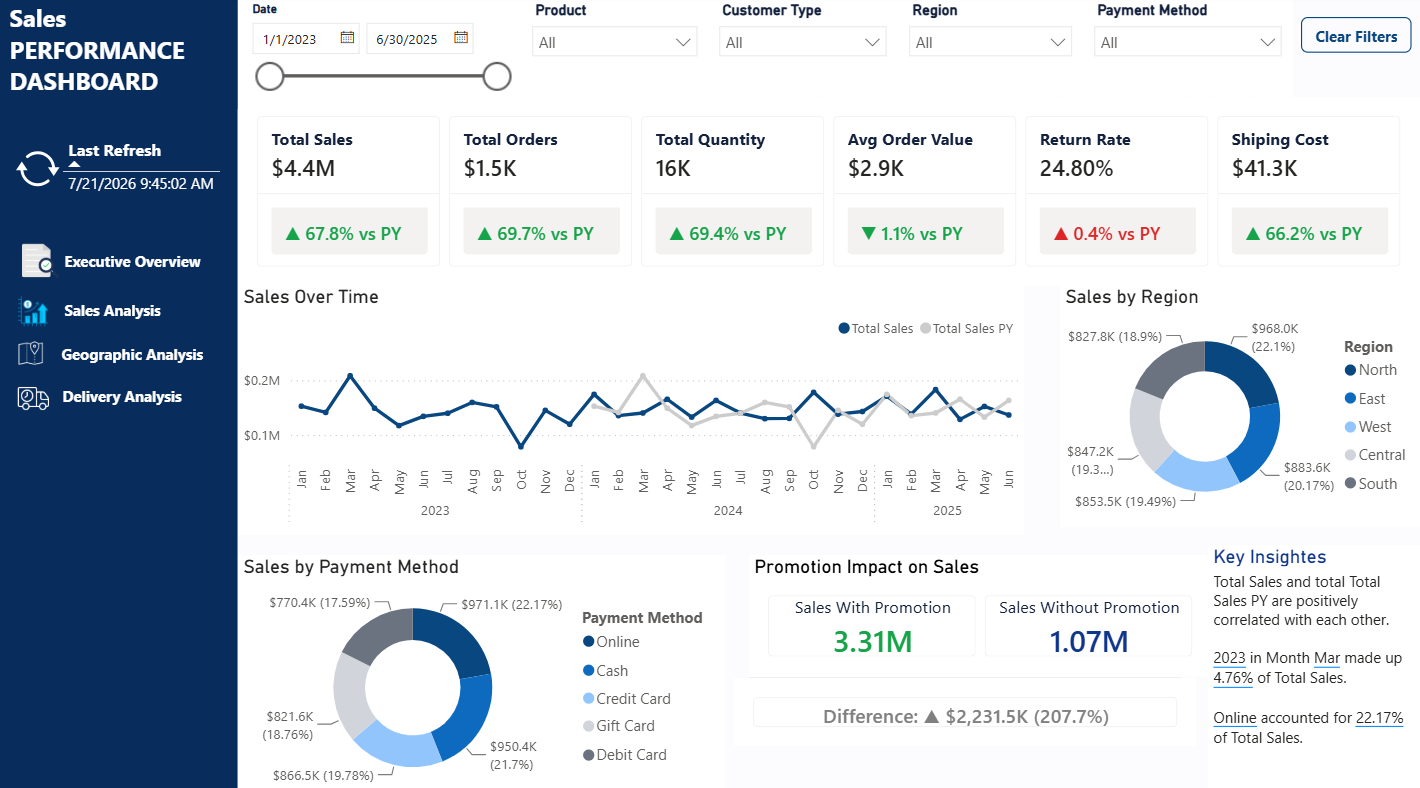

What the dashboard file says about the page in this screenshot:
{"tool":"powerbi","page":{"name":"Executive Overview","canvas":[1280,720],"ordinal":0},"visuals":[{"type":"shape","box":[0,0,219,720],"z":0,"group":"g1"},{"type":"slicer","fields":{"Values":["Data.Date"]},"box":[219,0,253,90],"z":0,"group":"g2"},{"type":"cardVisual","fields":{"Data":["#DAX.Total Sales","#DAX.Total Orders","#DAX.Total Quantity","#DAX.Average Order Value","#DAX.Return Rate","#DAX.Total Shiping Cost"]},"box":[219,90,1061,169],"z":0},{"type":"textbox","box":[10,0,208.8,101.2],"z":1000,"group":"g1"},{"type":"slicer","fields":{"Values":["Data.Region"]},"box":[810,0,166,90],"z":1000,"group":"g2"},{"type":"lineChart","title":"Sales Over Time","fields":{"Category":["Calendar.Year","Calendar.Month"],"Y":["#DAX.Total Sales"],"Y2":["#DAX.Total Sales PY"]},"box":[219,259,704,224],"z":1000},{"type":"slicer","fields":{"Values":["Data.Product"]},"box":[472,0,168,90],"z":2000,"group":"g2"},{"type":"donutChart","title":"Sales by Region","fields":{"Category":["Data.Region"],"Y":["#DAX.Total Sales"]},"box":[955.6,258.9,324.4,216.7],"z":2000},{"type":"slicer","fields":{"Values":["Data.CustomerType"]},"box":[640,0,170,90],"z":3000,"group":"g2"},{"type":"donutChart","title":"Sales by Payment Method","fields":{"Category":["Data.PaymentMethod"],"Y":["#DAX.Total Sales"]},"box":[219,501,437,219],"z":3000},{"type":"slicer","fields":{"Values":["Data.PaymentMethod"]},"box":[976,0,188,90],"z":4000,"group":"g2"},{"type":"actionButton","box":[60,224.5,139.1,27.3],"z":4000,"group":"g1"},{"type":"cardVisual","title":"Promotion Impact on Sales","fields":{"Data":["#DAX.Sales With Promotion","#DAX.Sales Without Promotion"]},"box":[677.2,501,414.7,109.1],"z":4000},{"type":"actionButton","box":[60,269.1,94.5,27.3],"z":5000,"group":"g1"},{"type":"shape","box":[677.3,575.5,387,70.6],"z":5000},{"type":"actionButton","box":[56.9,307.7,149.2,25.4],"z":6000,"group":"g1"},{"type":"cardVisual","fields":{"Data":["#DAX.Promotion Comparison"]},"box":[663.2,610.8,414.2,61.5],"z":6000},{"type":"textbox","title":"Key Insightes","box":[1088.2,501,191.8,218.1],"z":7000},{"type":"group","id":"g1","title":"Navigation Panel","box":[0,0,219.3,719.9],"z":8000},{"type":"actionButton","box":[58.5,345.7,140.1,31.2],"z":8000,"group":"g1"},{"type":"group","id":"g2","title":"Slicers","box":[219,0,945,90],"z":9000},{"type":"image","box":[26.4,208.2,32.7,59.1],"z":9000,"group":"g1"},{"type":"actionButton","title":"Clear Filters","box":[1180,17.5,100,32.5],"z":10000},{"type":"image","box":[22.7,267.3,27.3,30.9],"z":10000,"group":"g1"},{"type":"image","box":[10.8,306.2,46.2,28.5],"z":11000,"group":"g1"},{"type":"tableEx","fields":{"Values":["Last Refresh.Last Refresh"]},"box":[56.3,121.2,163,67.8],"z":11500},{"type":"image","box":[7.1,345.7,57.4,28.2],"z":12000,"group":"g1"},{"type":"image","box":[20.9,135.5,39.1,39.1],"z":13000,"group":"g1"}]}

Visuals, with their boxes in screenshot pixels (x1, y1, x2, y2), scaled from the page's 1280x720 canvas onto the 1420x788 screenshot:
shape: (x1=0, y1=0, x2=243, y2=787)
slicer - Data.Date: (x1=243, y1=0, x2=524, y2=99)
cardVisual - #DAX.Total Sales x #DAX.Total Orders: (x1=243, y1=99, x2=1419, y2=283)
textbox: (x1=11, y1=0, x2=243, y2=111)
slicer - Data.Region: (x1=899, y1=0, x2=1083, y2=99)
"Sales Over Time" lineChart: (x1=243, y1=283, x2=1024, y2=529)
slicer - Data.Product: (x1=524, y1=0, x2=710, y2=99)
"Sales by Region" donutChart: (x1=1060, y1=283, x2=1419, y2=521)
slicer - Data.CustomerType: (x1=710, y1=0, x2=899, y2=99)
"Sales by Payment Method" donutChart: (x1=243, y1=548, x2=728, y2=787)
slicer - Data.PaymentMethod: (x1=1083, y1=0, x2=1291, y2=99)
actionButton: (x1=67, y1=246, x2=221, y2=276)
"Promotion Impact on Sales" cardVisual: (x1=751, y1=548, x2=1211, y2=668)
actionButton: (x1=67, y1=295, x2=171, y2=324)
shape: (x1=751, y1=630, x2=1181, y2=707)
actionButton: (x1=63, y1=337, x2=229, y2=365)
cardVisual - #DAX.Promotion Comparison: (x1=736, y1=668, x2=1195, y2=736)
"Key Insightes" textbox: (x1=1207, y1=548, x2=1419, y2=787)
"Navigation Panel" group: (x1=0, y1=0, x2=243, y2=787)
actionButton: (x1=65, y1=378, x2=220, y2=412)
"Slicers" group: (x1=243, y1=0, x2=1291, y2=99)
image: (x1=29, y1=228, x2=66, y2=293)
"Clear Filters" actionButton: (x1=1309, y1=19, x2=1419, y2=55)
image: (x1=25, y1=293, x2=55, y2=326)
image: (x1=12, y1=335, x2=63, y2=366)
tableEx - Last Refresh.Last Refresh: (x1=62, y1=133, x2=243, y2=207)
image: (x1=8, y1=378, x2=72, y2=409)
image: (x1=23, y1=148, x2=67, y2=191)
